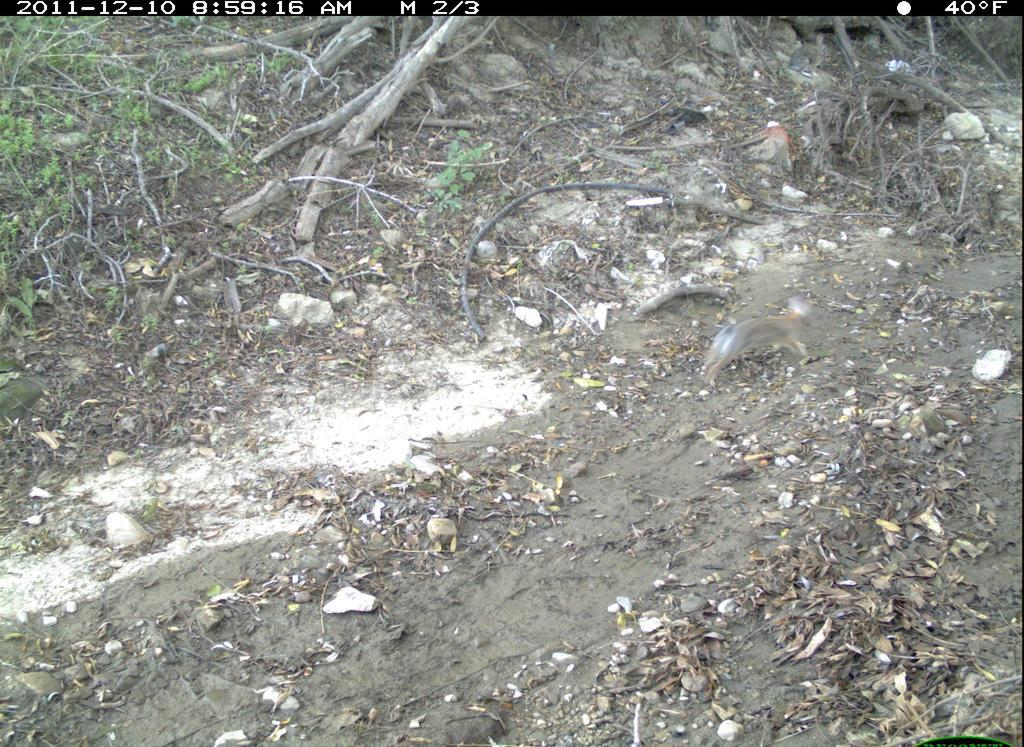rabbit: (699, 287, 833, 392)
